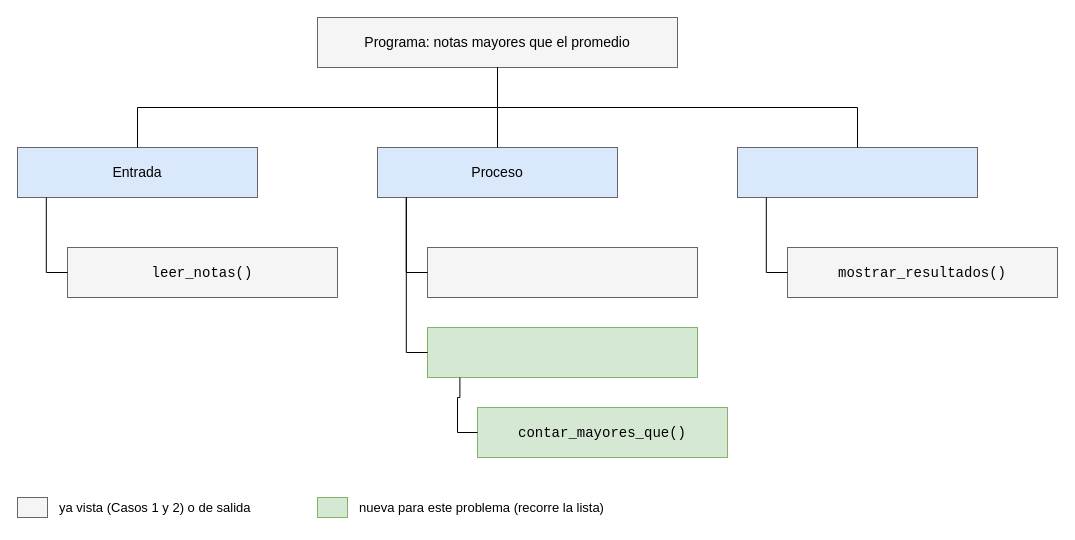
This 1075x540 diagram has some shape labels left out. Each missing label, with the centre of its shape:
"calcular_promedio()" belongs at [562,272].
"posiciones_mayores_que()" belongs at [562,352].
"Salida" belongs at [857,172].
